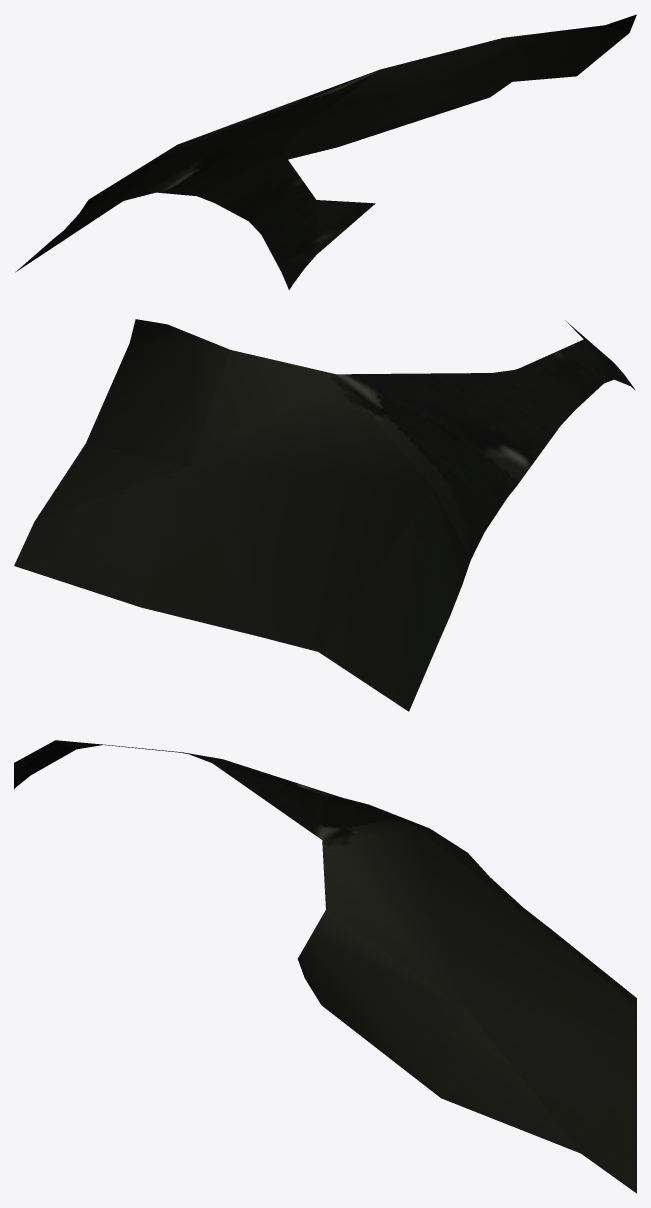
3 views of the same model, one above another, from view 1: azimuth 30°, elevation 25°; view 2: azimuth 150°, elevation 25°; view 3: azimuth 270°, elevation 25° (orthographic). The views are drawn at different scales.
Bounding box in the file's own units: 0.8373 × 0.4202 × 0.8373.
2 materials, 2 textured.
